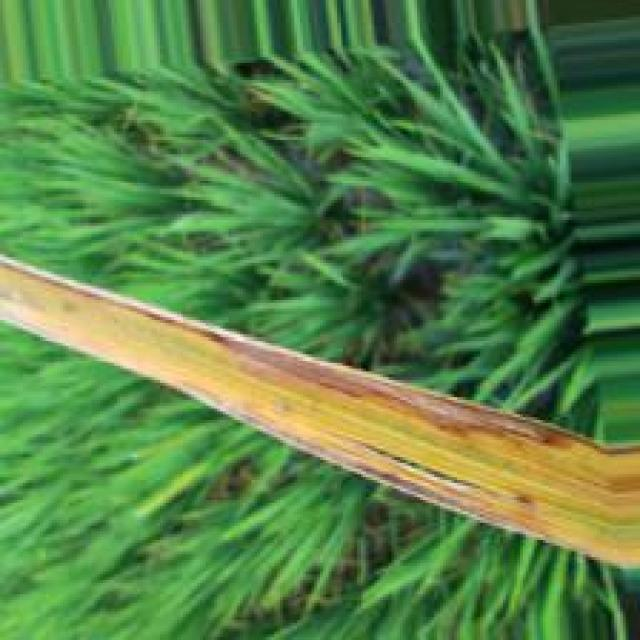Bacterial_Leaf_Blight: (0, 251, 621, 456), (86, 353, 578, 552)
